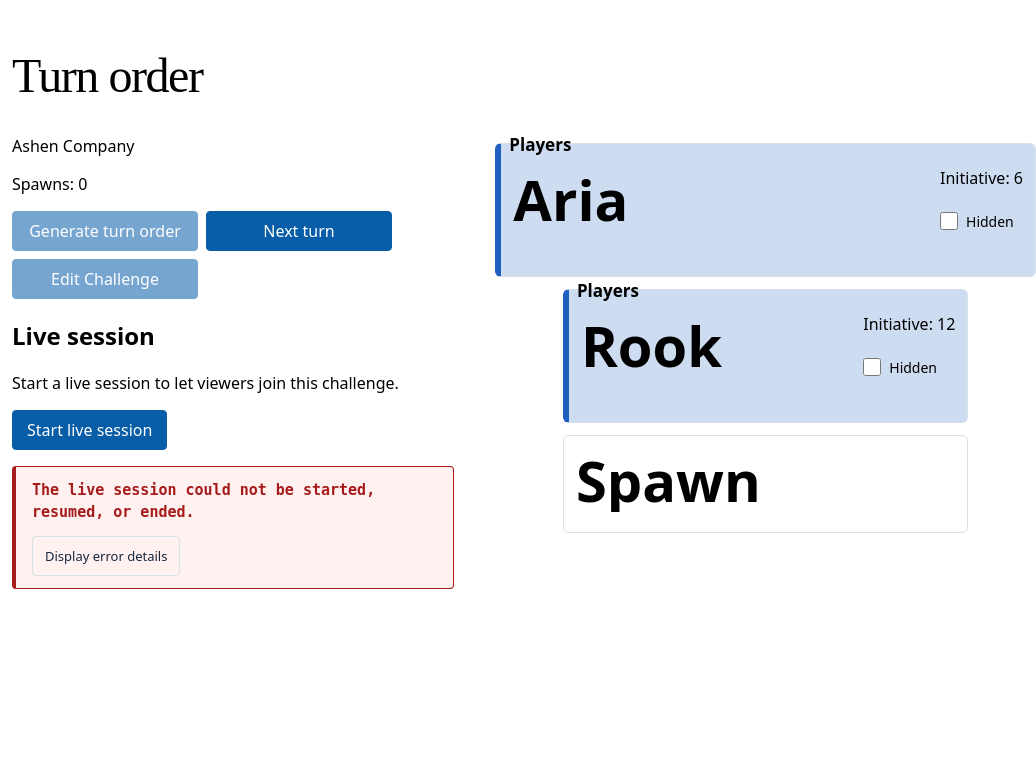
Scenario: turn-order run route › keeps an unpersisted session available for ending when cleanup fails
Click the button "Start live session". click: [90, 430]
box: [12,410,167,450]
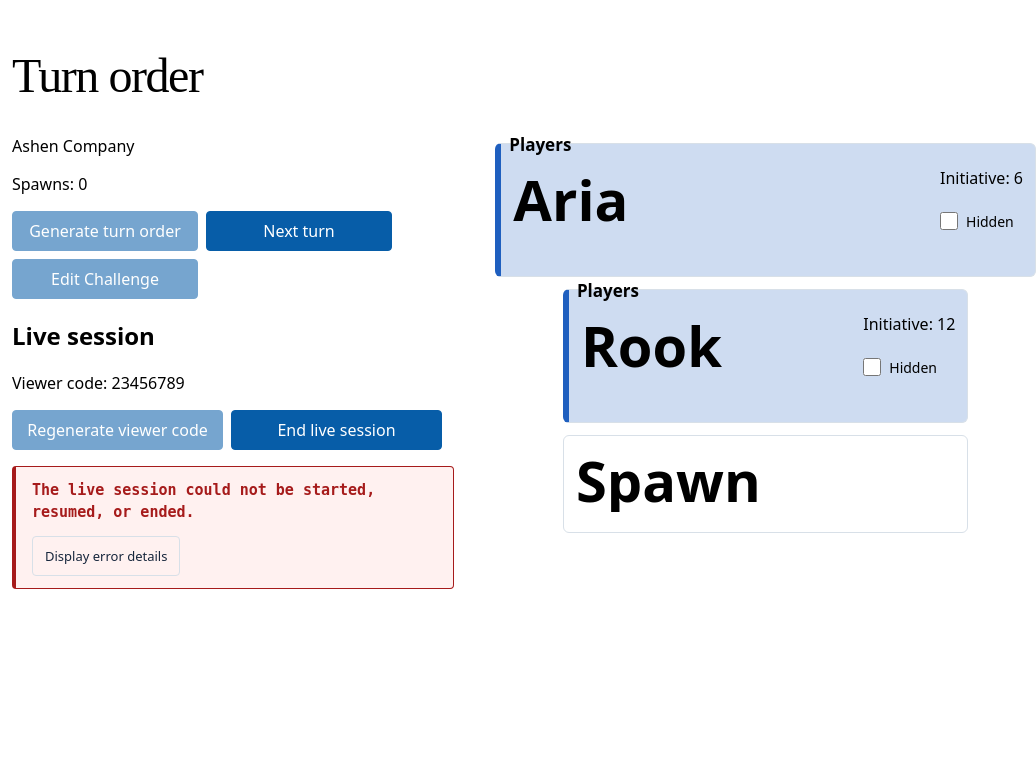
Expected: the message "The live session could not be started, resumed, or ended." is shown, [32,481,375,521]
Result: the text "23456789" is shown at [112,372,185,394]
Click the button "Display error details". click: [106, 556]
box: [32,536,180,576]
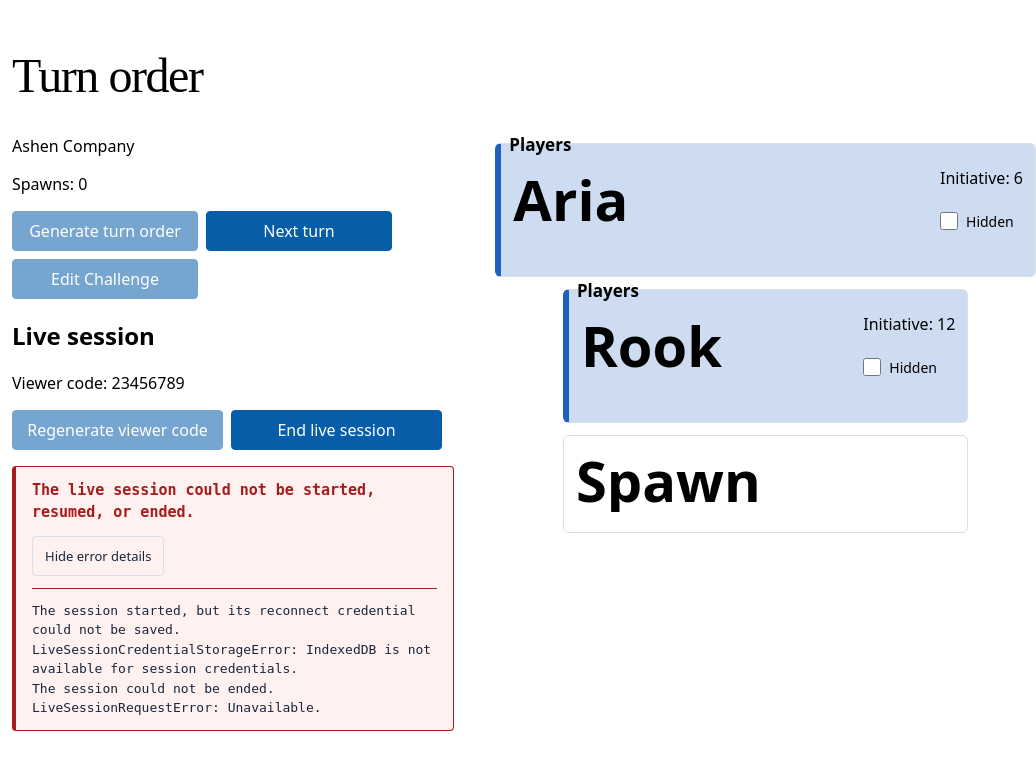
Result: the button "End live session" is shown at [231,410,442,450]
Result: the text "The session could not be ended." is shown at [32,603,439,715]
